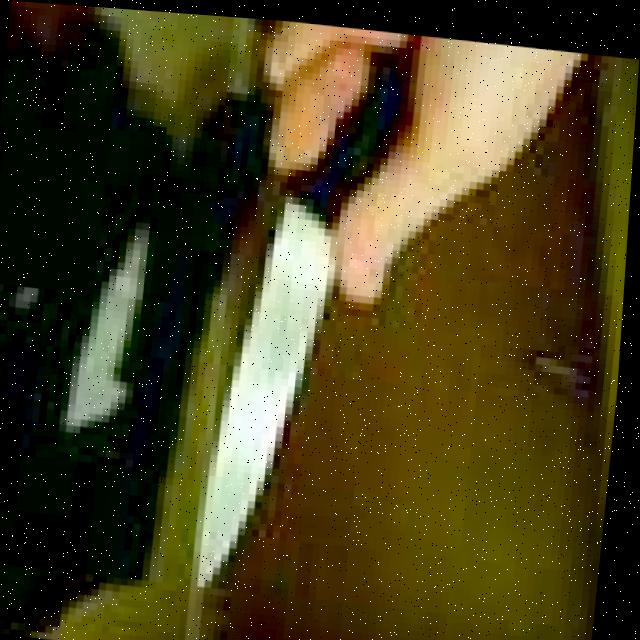knife: (195, 13, 425, 602)
